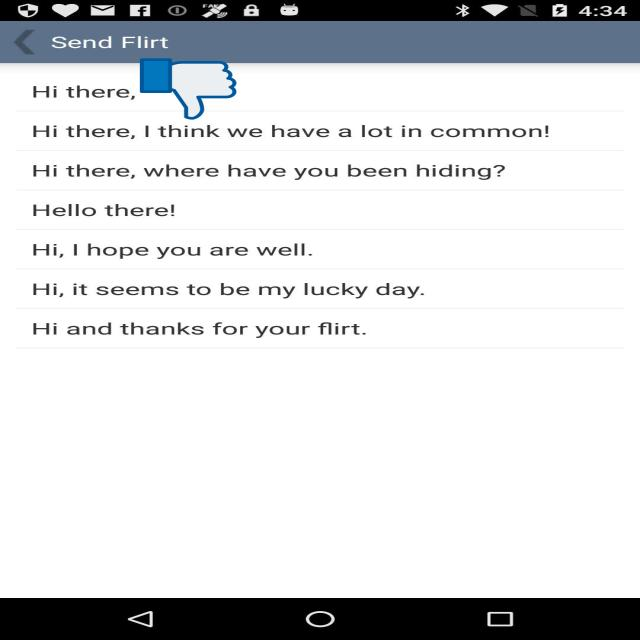obstruction: (140, 57, 236, 121)
